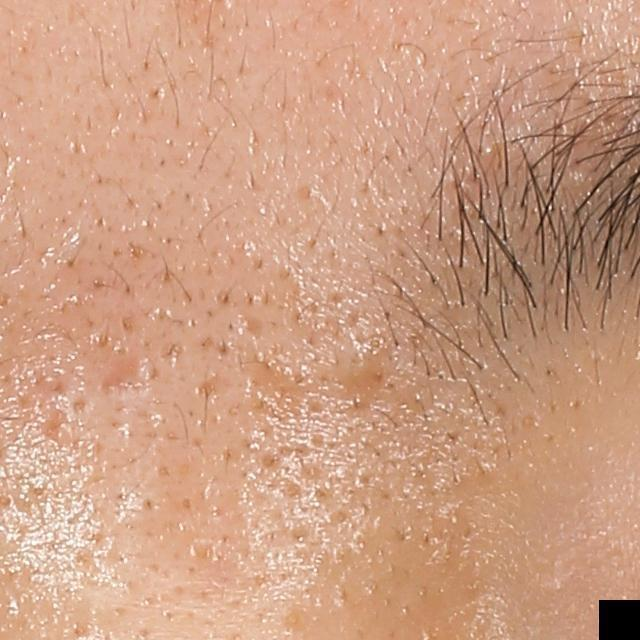atrophic_scar: (240, 350, 393, 413), (96, 352, 154, 402), (38, 410, 70, 445), (190, 375, 222, 399)
